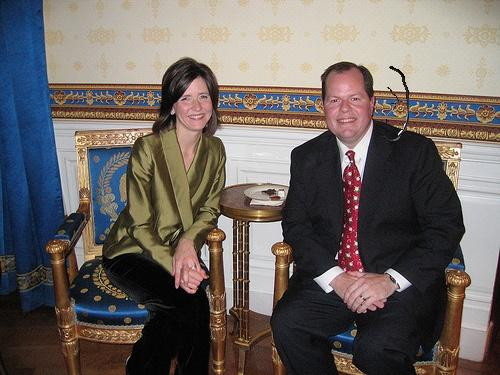tampered: (380, 67, 409, 141)
